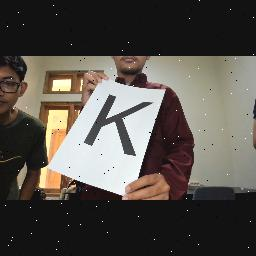k: (78, 84, 156, 166)
